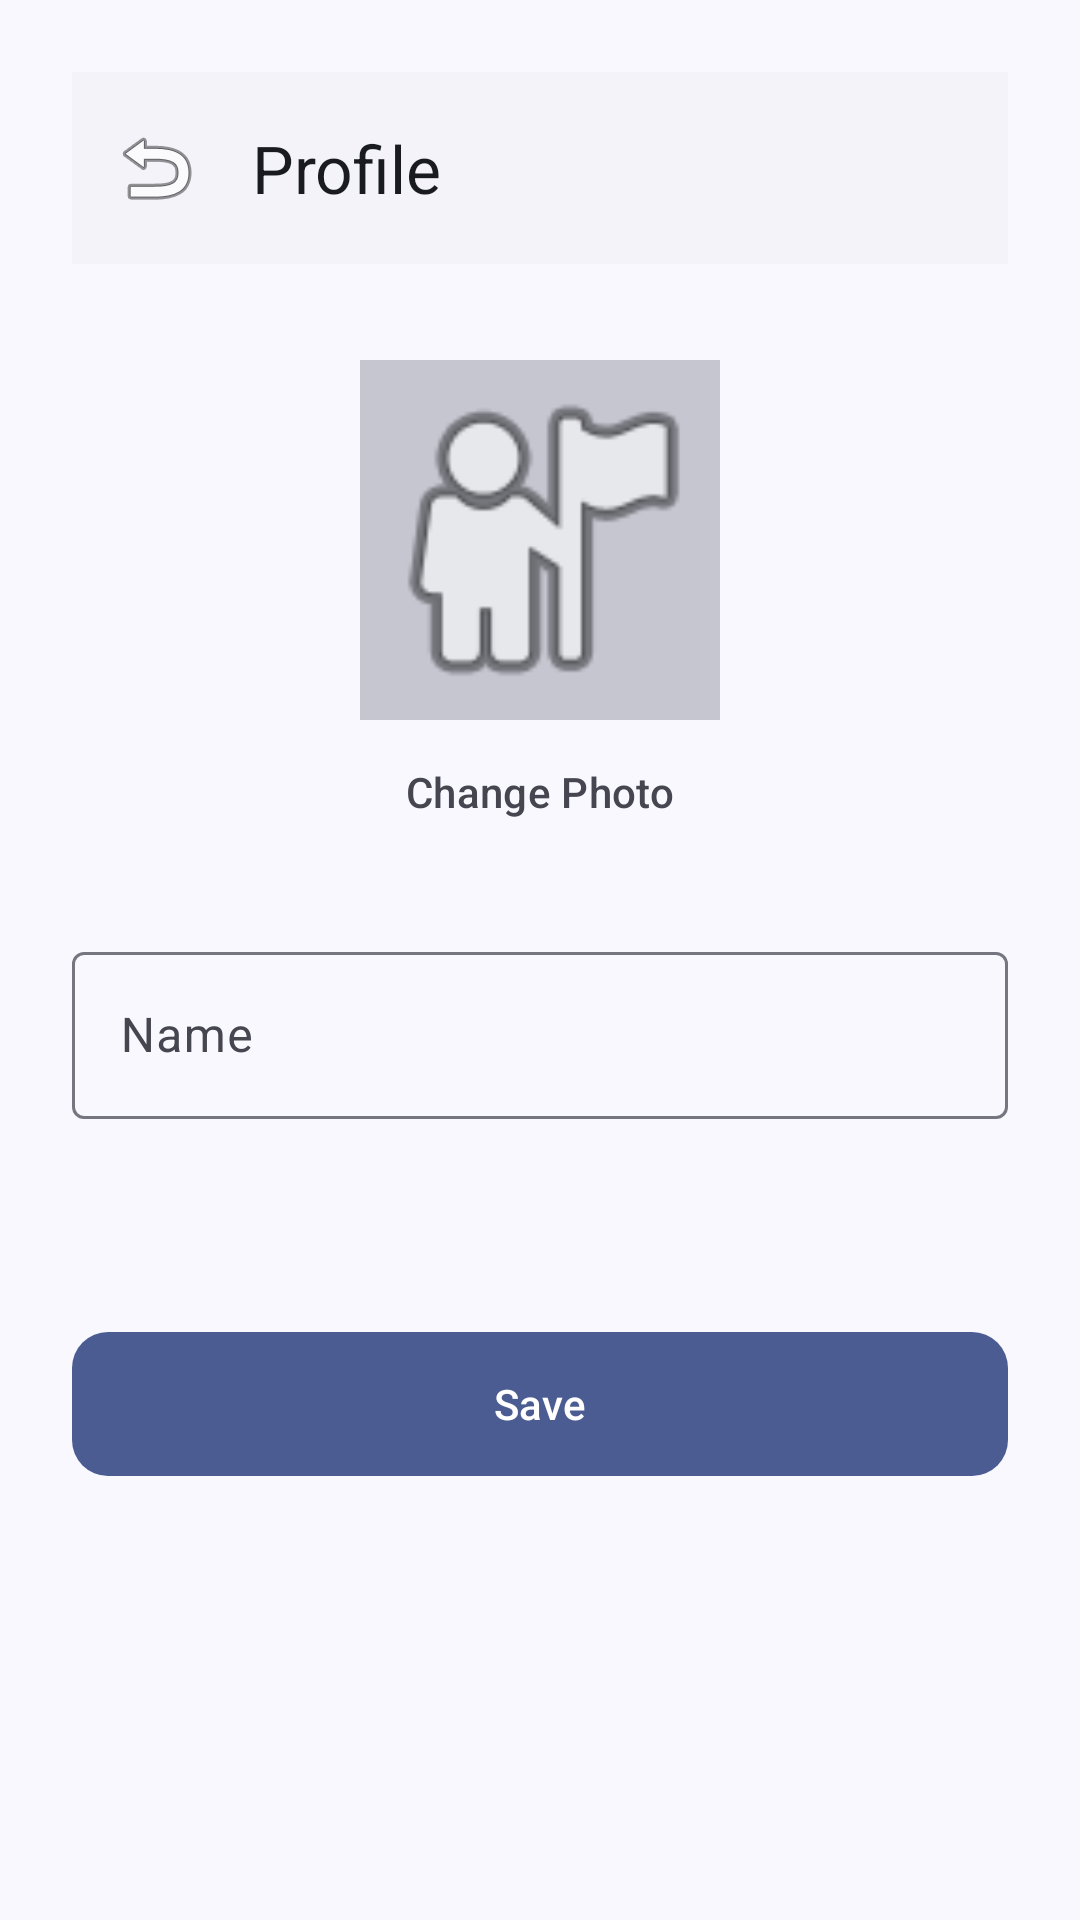

Named icons in this screenshot (1080*1920) and their bounding boxes, (x1, y1, x2, y2):
myplaces: (360, 360, 720, 720)
